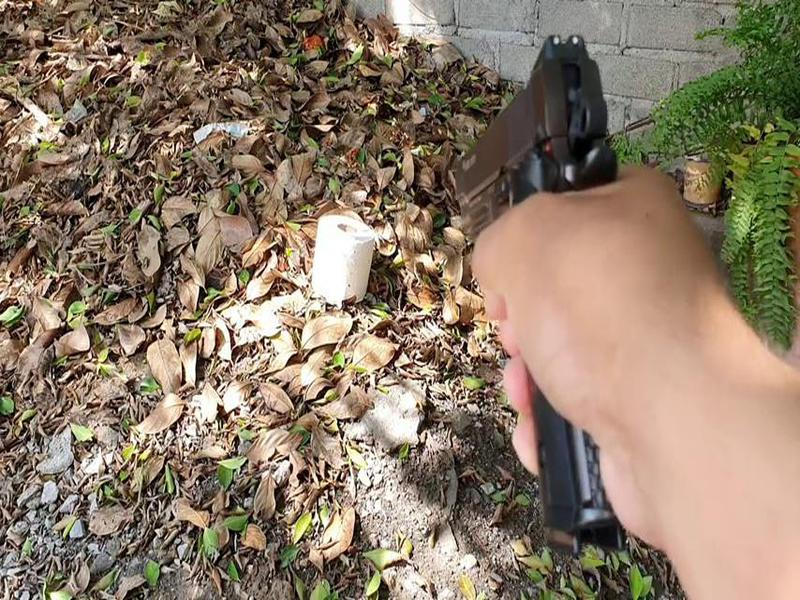Pistola: (426, 37, 678, 496)
